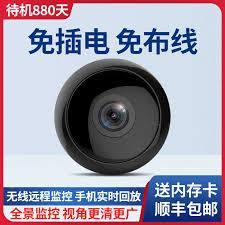maru: (53, 57, 171, 176)
